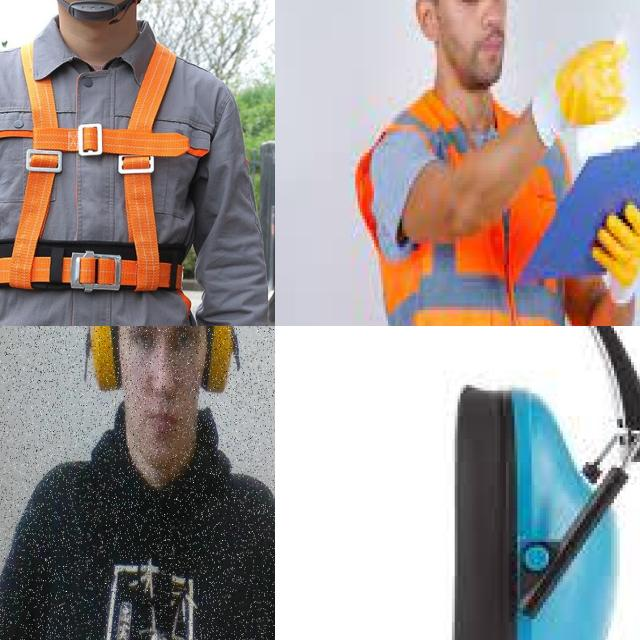Ear-protection: (275, 326, 636, 640), (79, 326, 131, 407), (198, 326, 243, 417)
Harness: (0, 55, 179, 317)
No_Ear-Protection: (416, 0, 437, 40)
No_Glasses: (124, 326, 203, 373), (446, 0, 505, 26)
face_nomask: (437, 12, 504, 90)
hand_glove: (532, 45, 626, 147), (592, 202, 640, 303)
